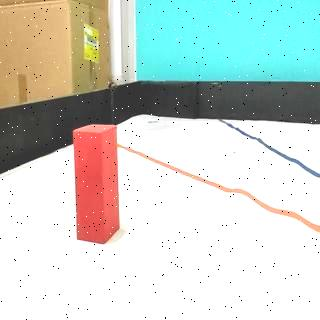redbox: (72, 124, 120, 244)
